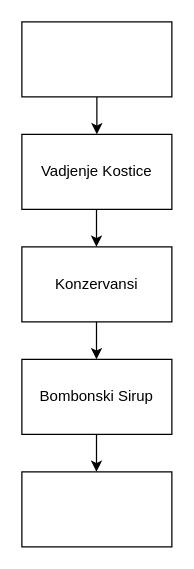
Image size: 194x569. Some labels were removed from this diagram. Each missing label, with the centre of its shape:
"Kandiranje Sljive" belongs at point (96, 509).
"Obrada Suve Sljive" belongs at point (96, 59).
